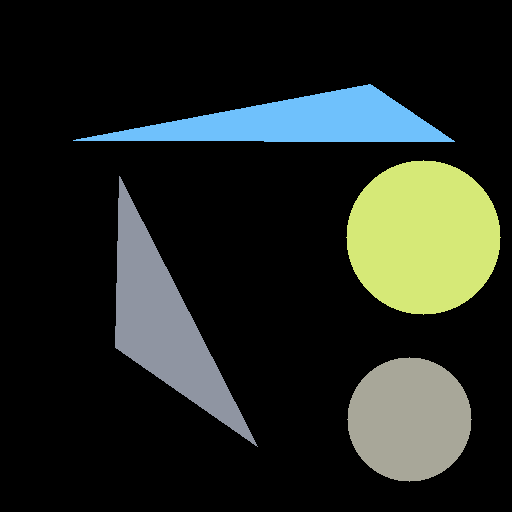circle: (346, 160, 500, 314), (347, 357, 471, 481)
triangle: (115, 176, 257, 446), (73, 84, 454, 141)
